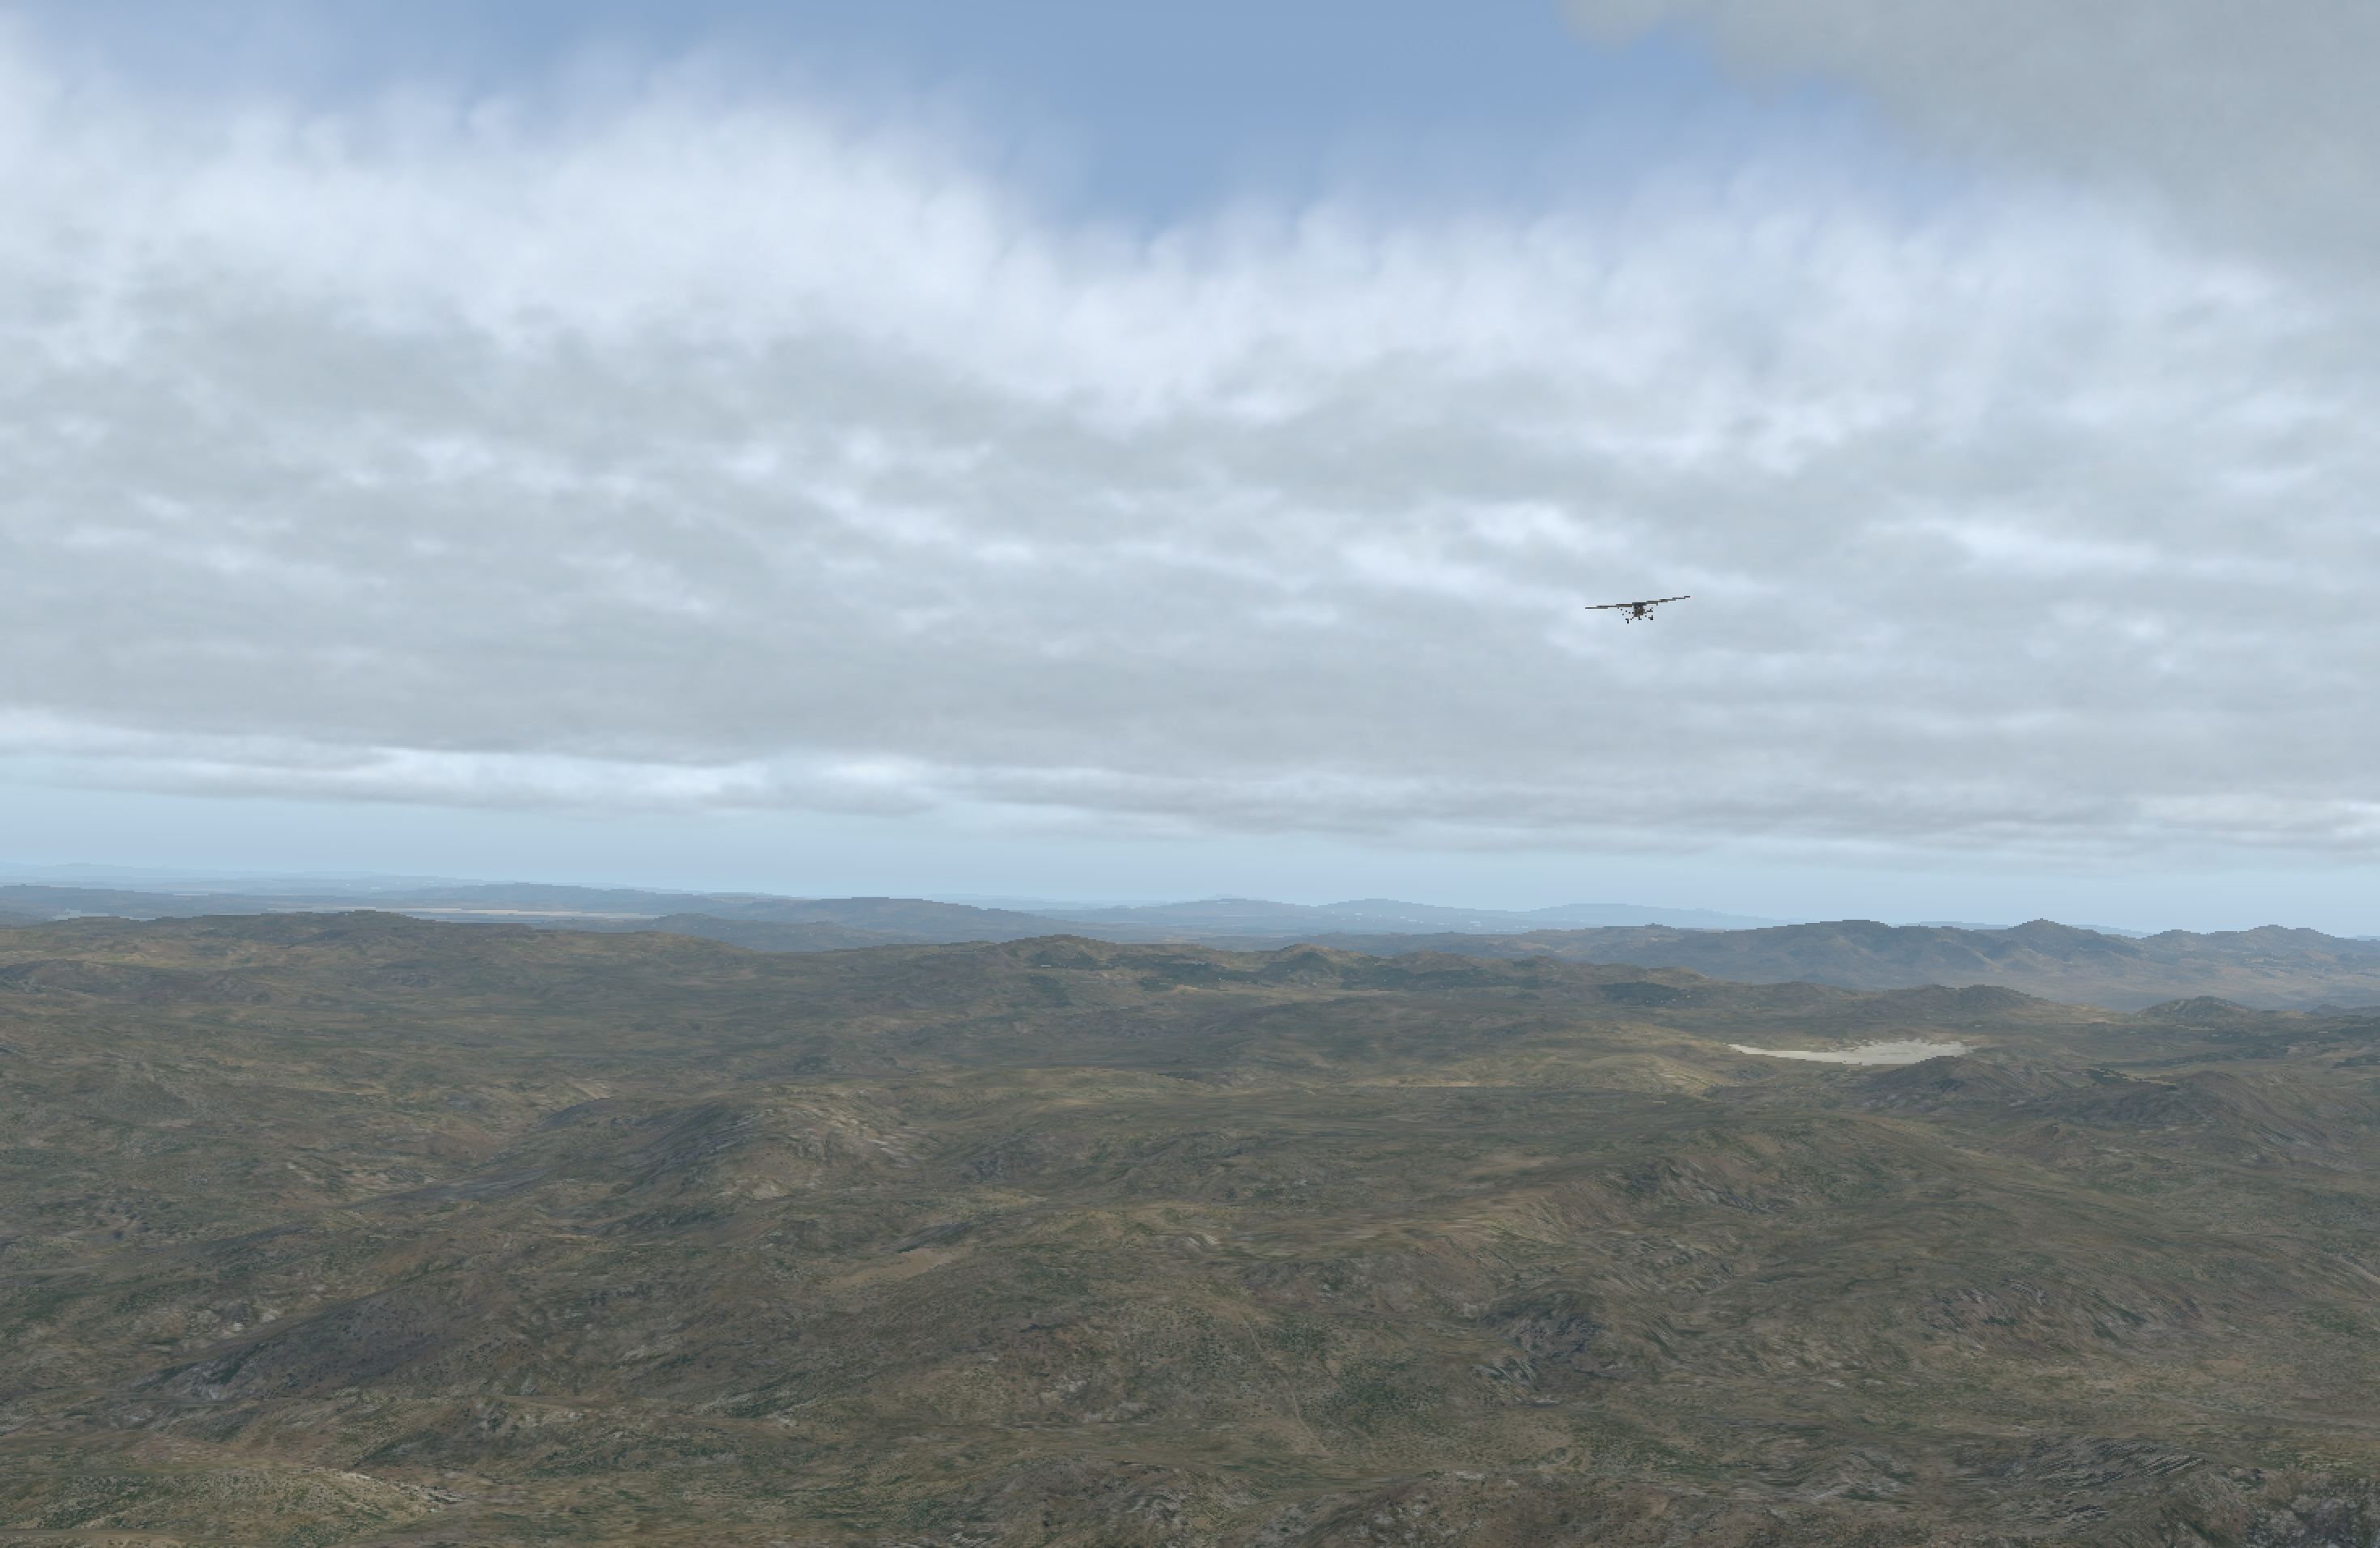aircraft: (1603, 595, 1676, 623)
